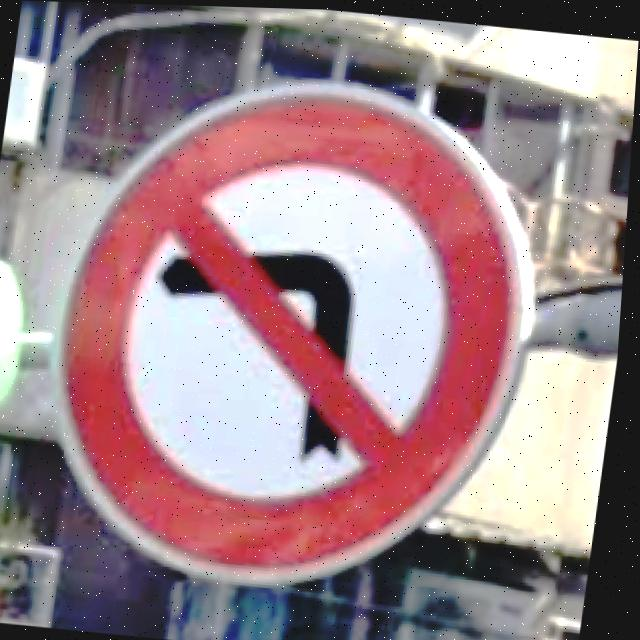noturnleft: (66, 91, 514, 567)
